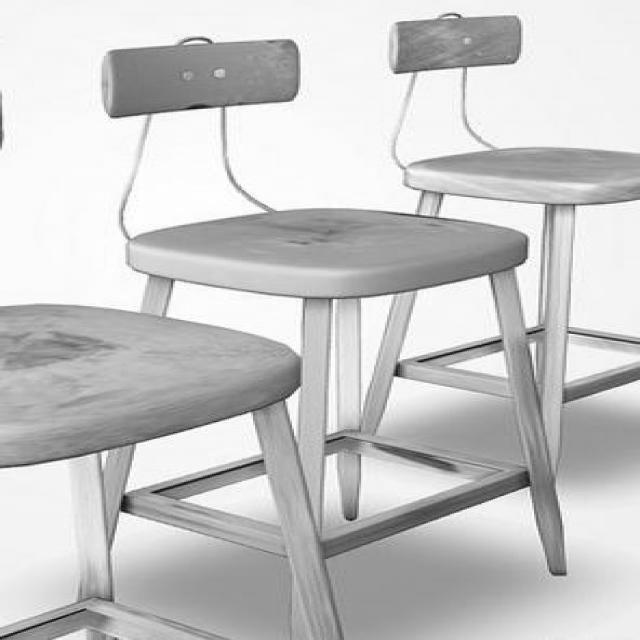chair: (101, 37, 570, 640), (357, 1, 638, 481), (0, 301, 353, 639)
